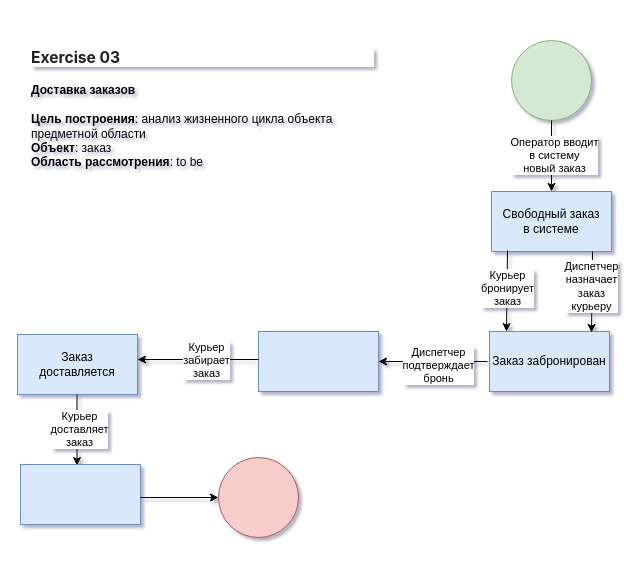
This 642x561 diagram has some shape labels left out. The shapes that lost their labels are listed below. From the top down, each one's centre as x and y in pixels, then its label:
(318,361): Заказ переходит в статус "в работе"
(80,494): Заказ доставлен
